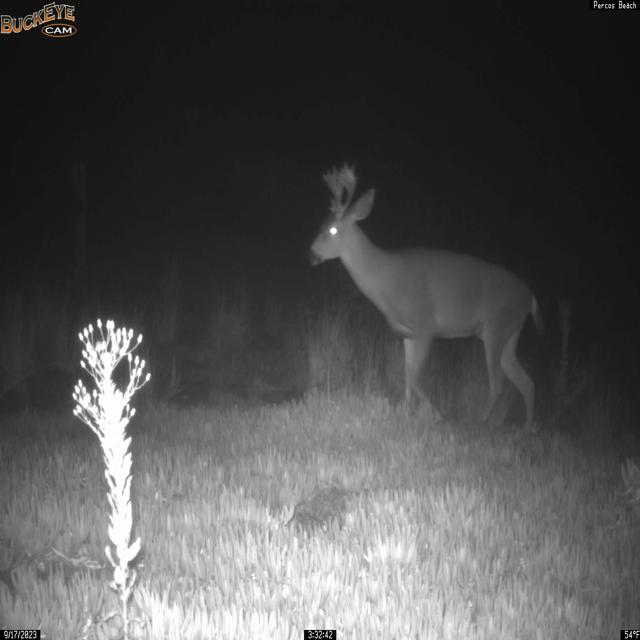deer: (307, 161, 546, 436)
